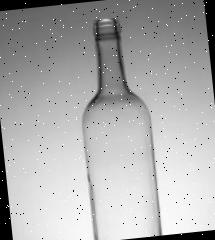glass: (69, 14, 165, 240)
